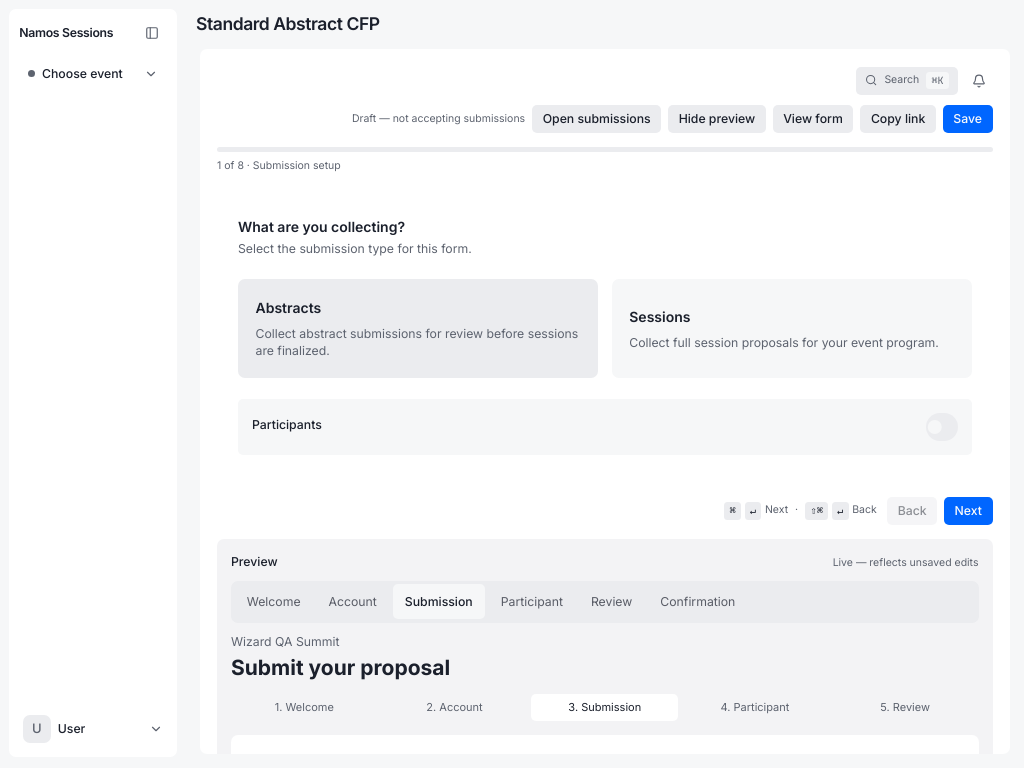
it: CFP form builder › surfaces a rejected status change instead of showing the form as open
Click the button "Open submissions" at coordinates (597, 119), box [532,105,661,133]
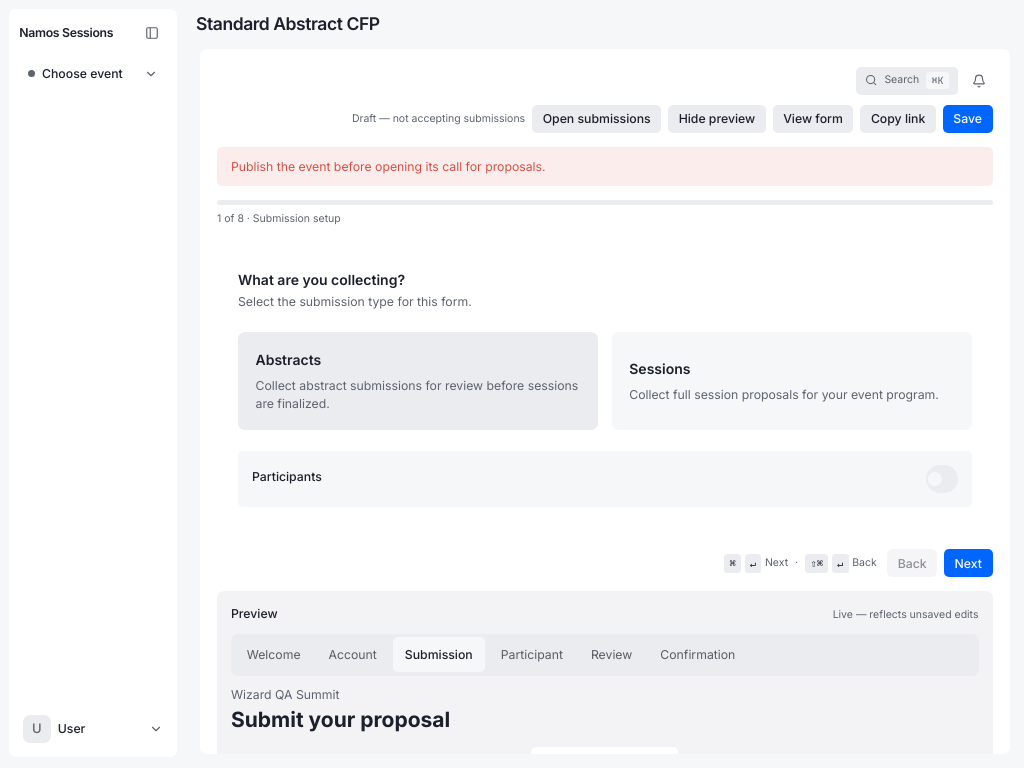
Expected: the text "Draft — not accepting submissions" is shown, [352,112,525,126]
Now the message reads "Publish the event before opening its call for proposals.", box [231,158,546,174]
